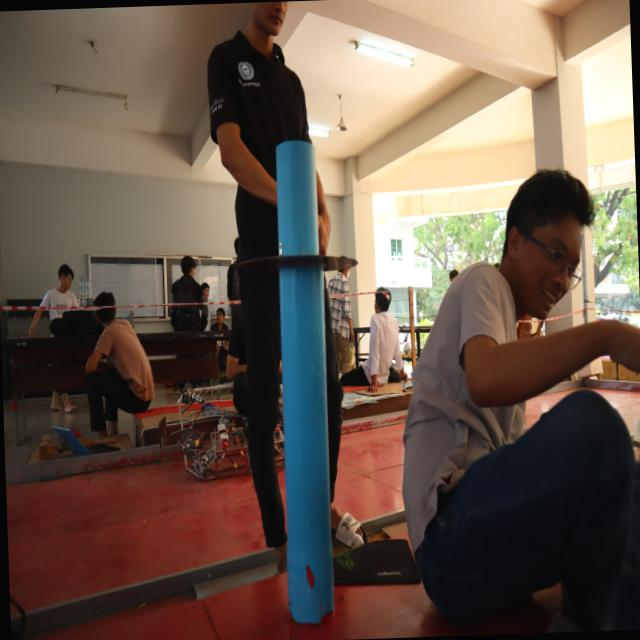pole: (224, 130, 365, 372)
